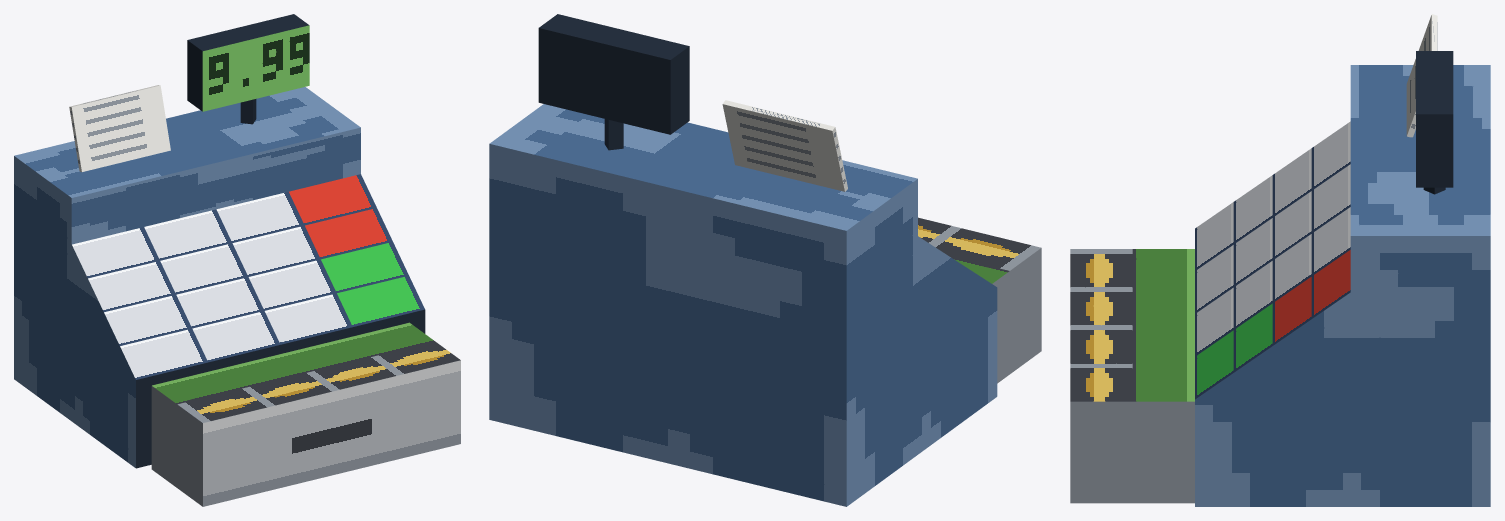
File: play-cashRegister.glb
3 renders of one model, left to right at view 1: azimuth 30°, elevation 25°; view 2: azimuth 150°, elevation 25°; view 3: azimuth 270°, elevation 25°, orthographic. The views are drawn at different scales.
Parts seen in each view (by area): view 1: play.cashRegister; view 2: play.cashRegister; view 3: play.cashRegister.
Part boxes in pixels (x1,y1,x2,y2): play.cashRegister: (14, 14, 460, 506); play.cashRegister: (489, 14, 1041, 506); play.cashRegister: (1070, 14, 1490, 506).
Size of the model in its own units: 1.13 by 1.19 by 1.18.
8 materials, 6 textured.
